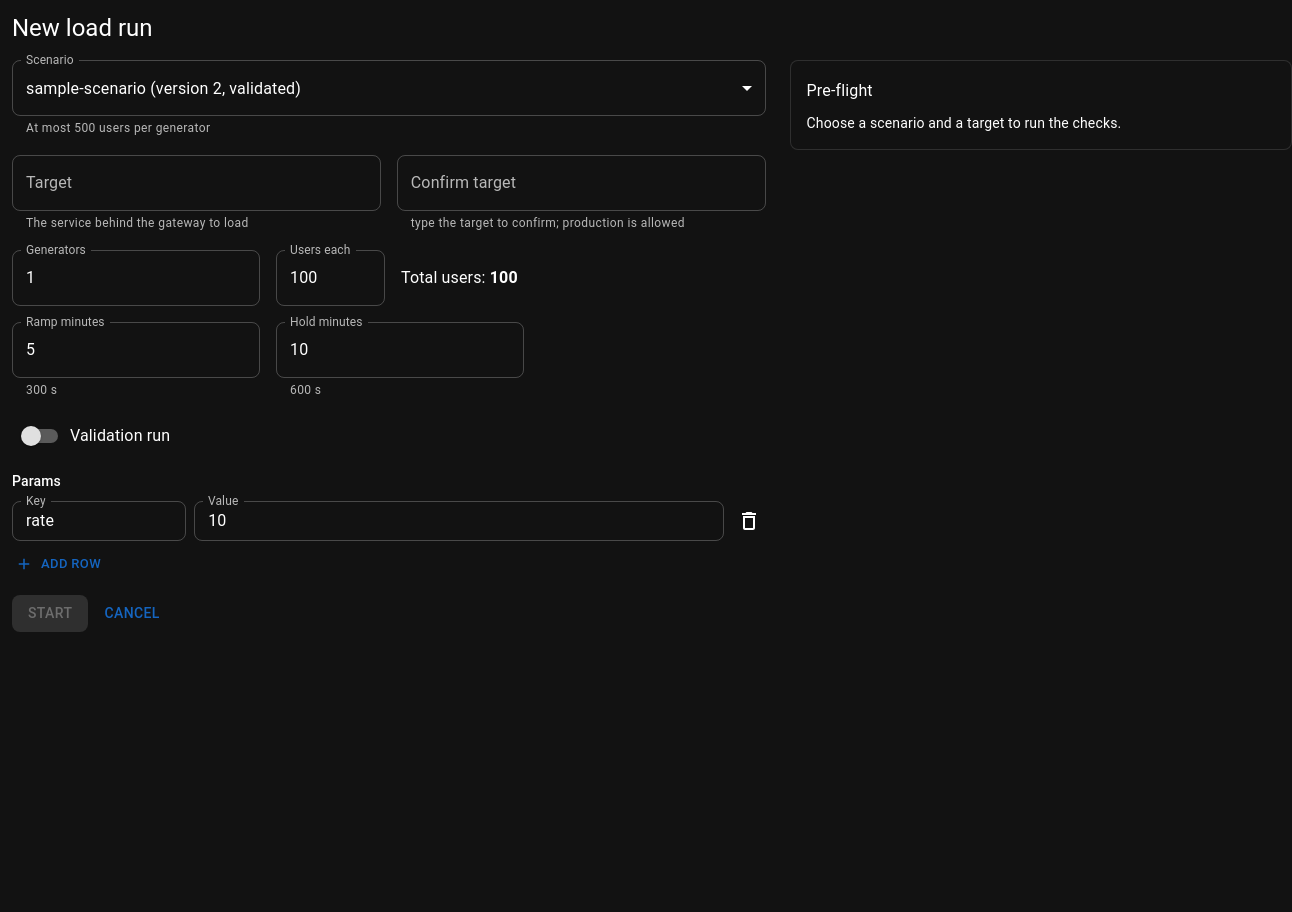
Scenario: LoadRunFormPage › debounces pre-flight and gates Start on red checks and the typed target
expect the field named "Params key 1" holds "rate": met, box [12,501,186,541]
Type "sample-service" into the field labelled "Target" at (196,183), box [12,155,381,211]
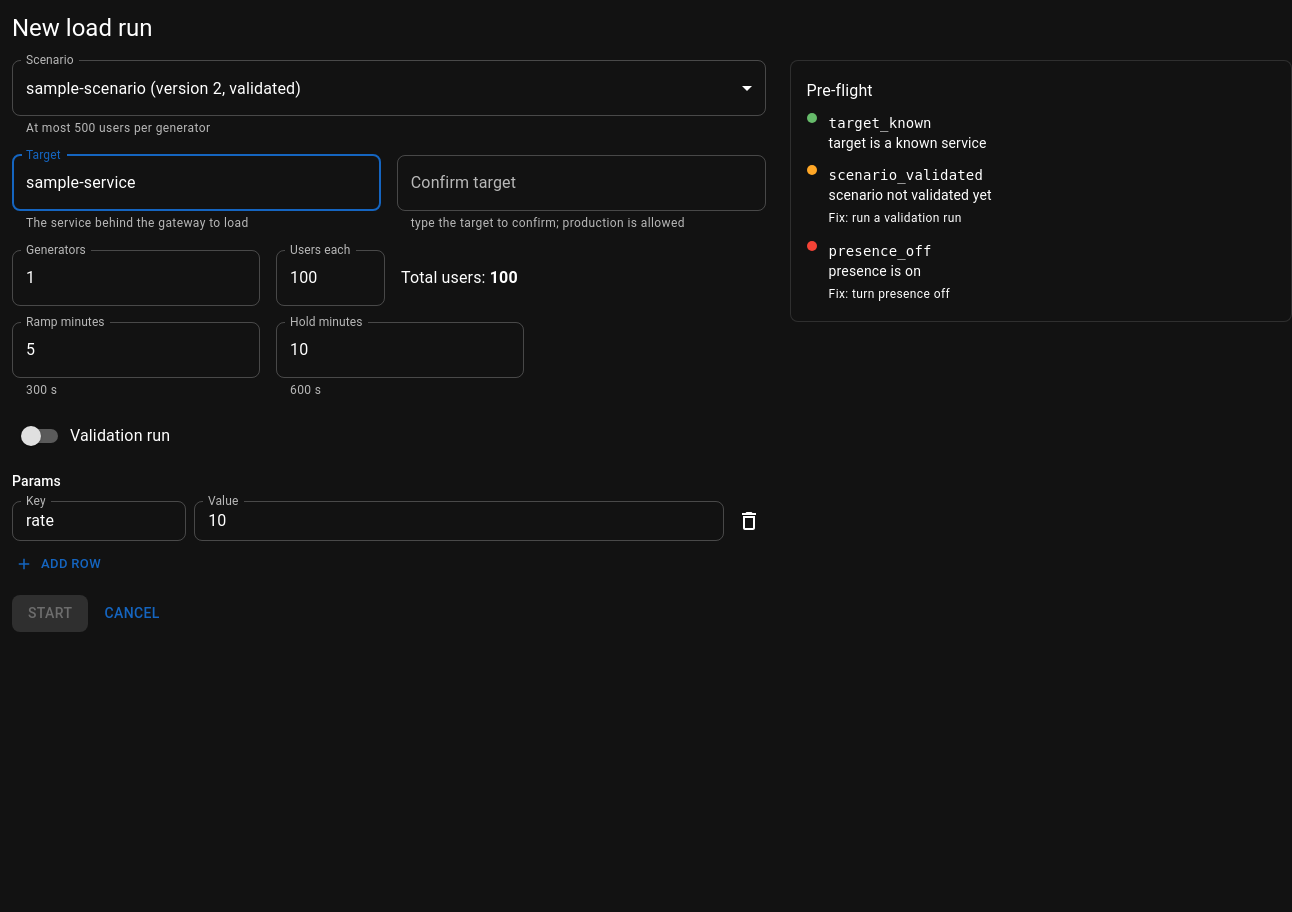
expect the button "Start" is disabled: met, box [12,596,88,632]
expect the element with test id "check-presence_off" is shown: met, box [807,241,950,301]
Type "sample-serv" into the field labelled "Confirm target" at (581,183), box [397,155,766,211]
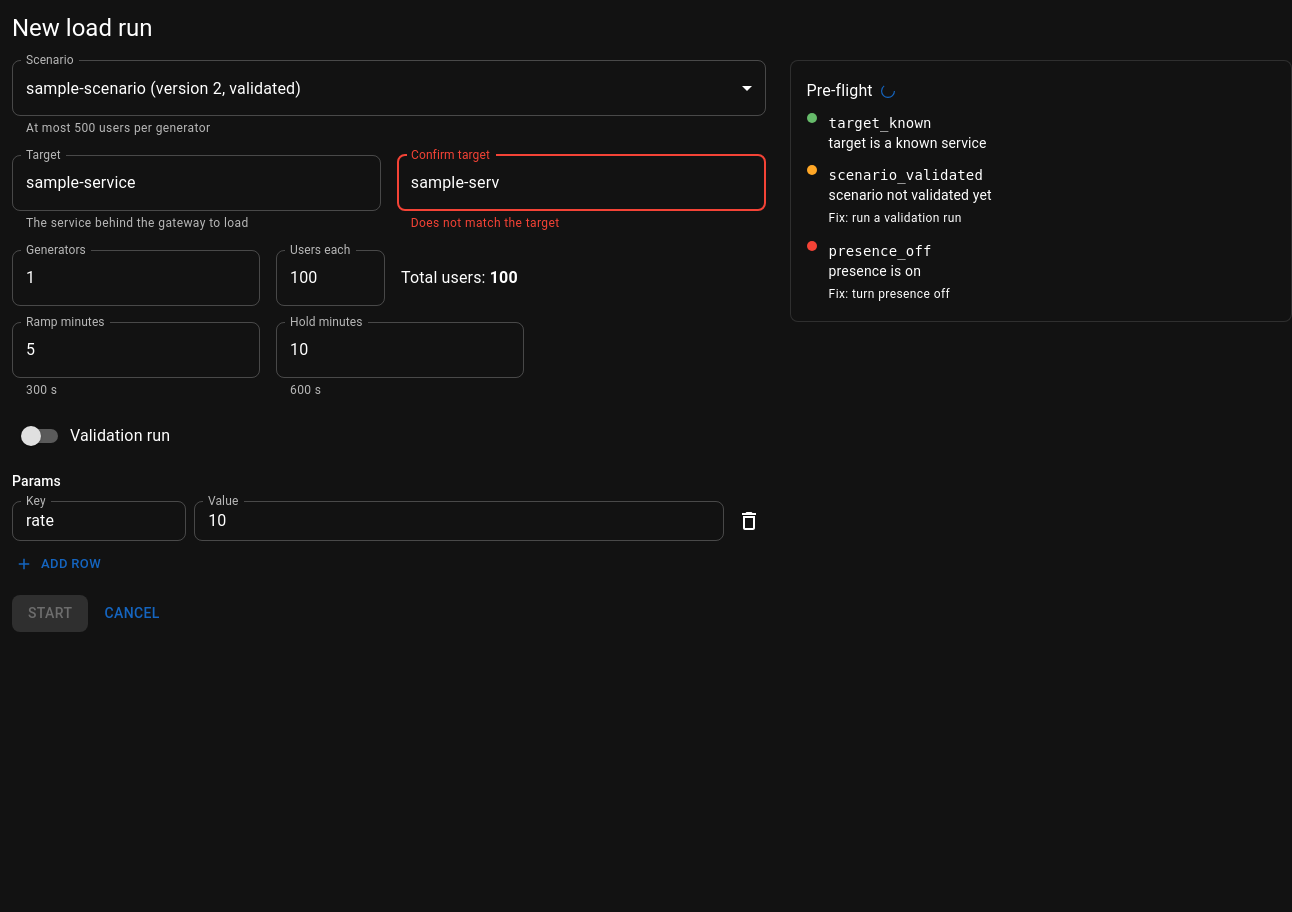
expect the text "Does not match the target" is shown: met, box [411,216,560,230]
Type "ice" into the field labelled "Confirm target" at (581,183), box [397,155,766,211]
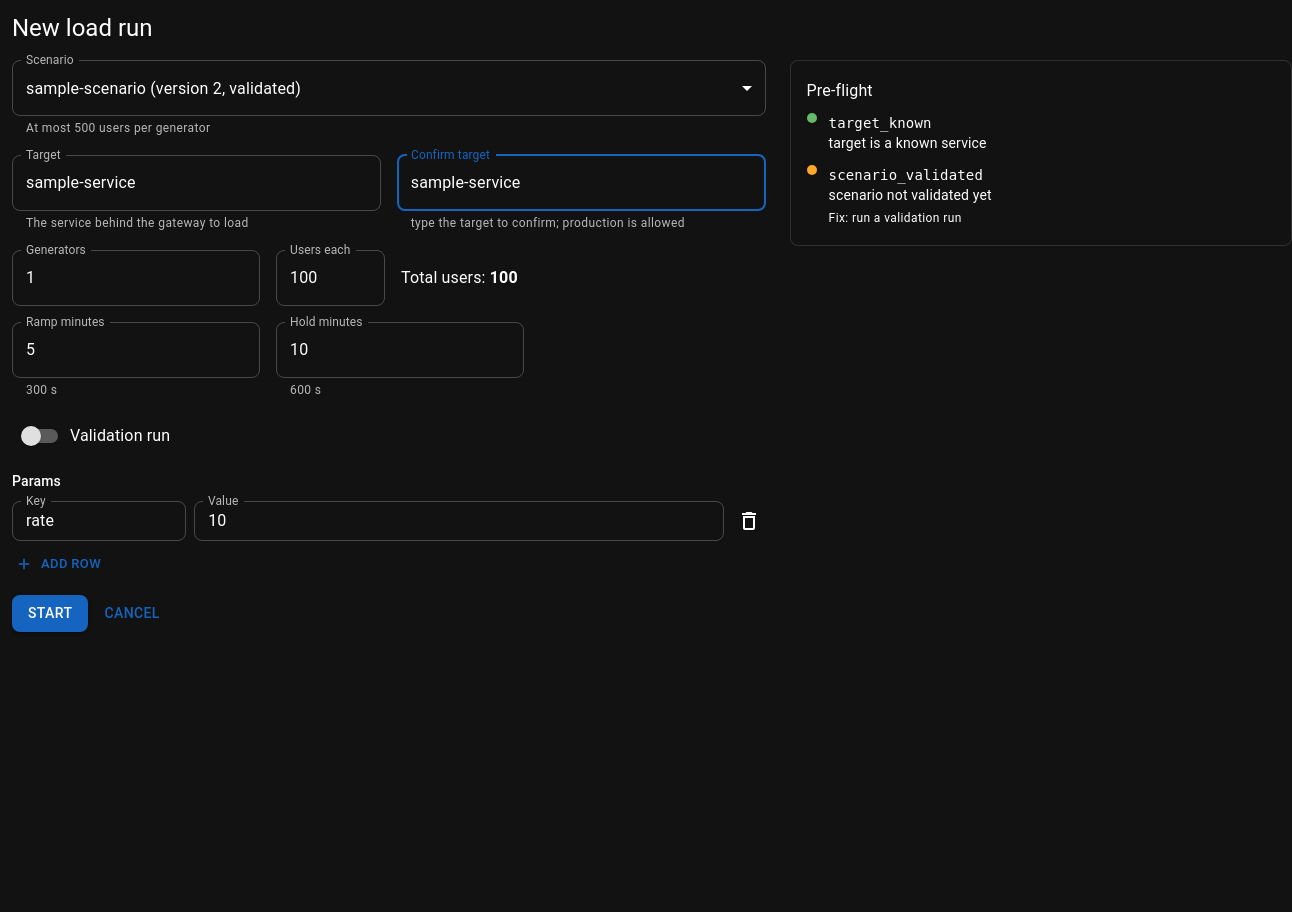
expect the text "Fix: run a validation run" is shown: met, box [829,211,962,225]
expect the element with test id "check-presence_off" is gone: met
expect the button "Start" is enabled: met
Click the button "Start" at (50,614), box [12,596,88,632]
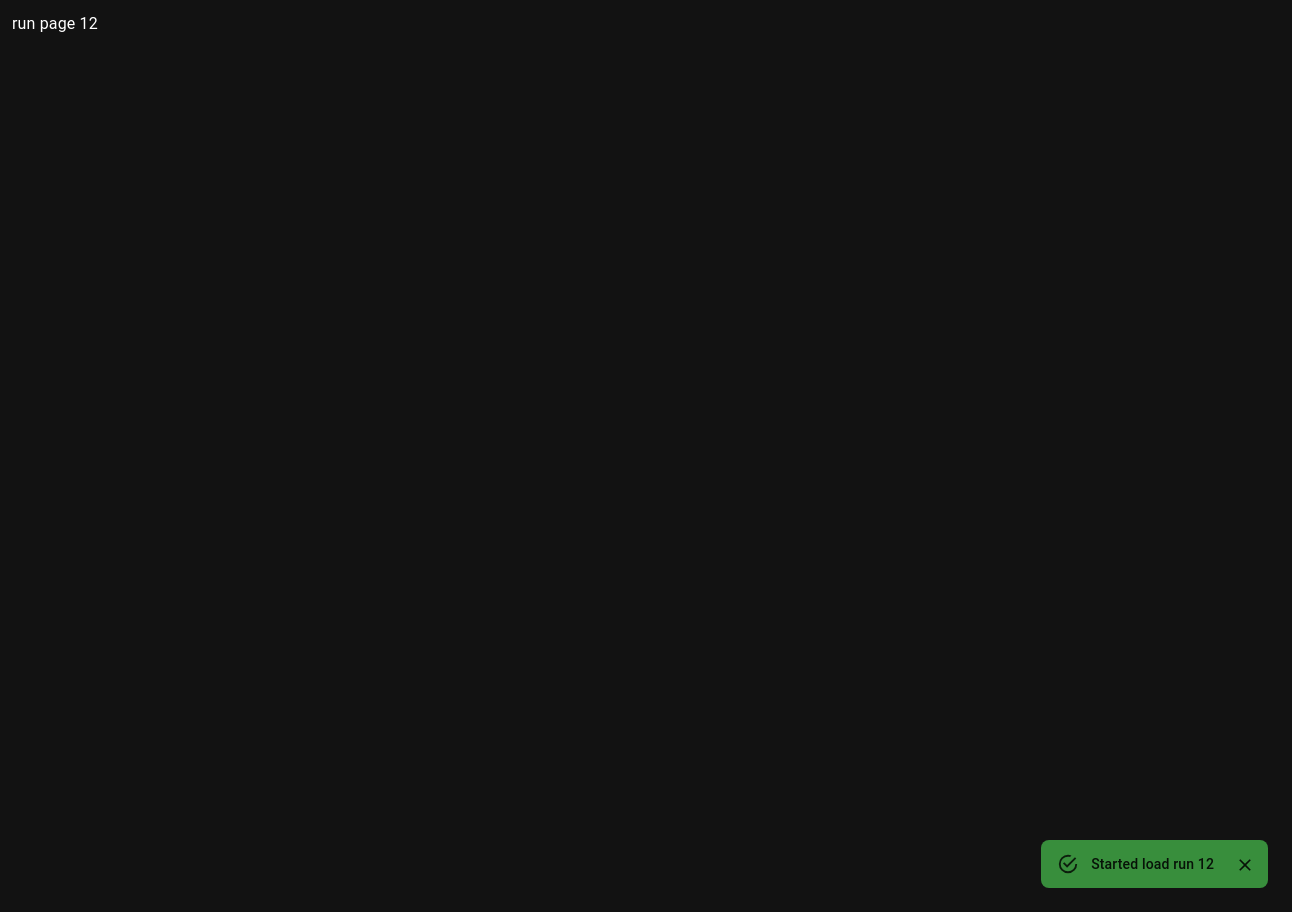
expect the text "run page 12" is shown: met, box [12,14,98,33]
